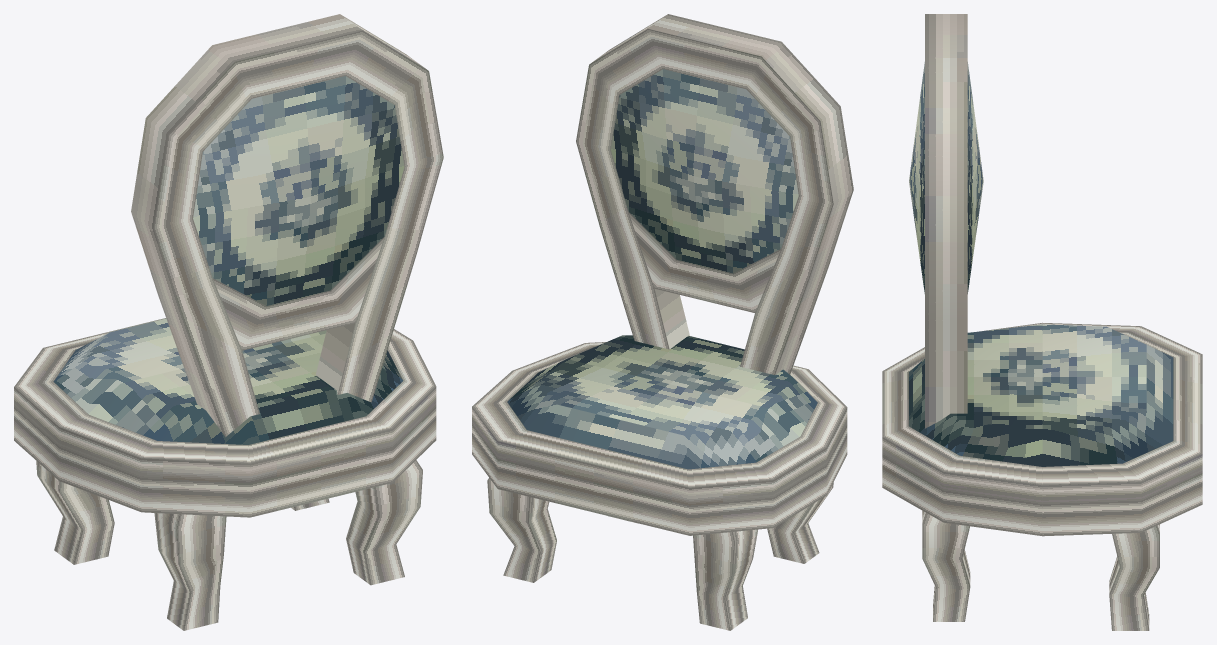
The model's file is o-isu.glb.
3 renders of one model, left to right at view 1: azimuth 30°, elevation 25°; view 2: azimuth 150°, elevation 25°; view 3: azimuth 270°, elevation 25°, orthographic. The views are drawn at different scales.
Parts seen in each view (by area): view 1: o_isu; view 2: o_isu; view 3: o_isu.
Boxes of the visible parts, x1,y1,x2,y2 form: o_isu: (14, 14, 443, 630); o_isu: (472, 14, 853, 630); o_isu: (882, 14, 1202, 630).
Bounding box in the file's own units: 144 × 218 × 120.
2 materials, 2 textured.
